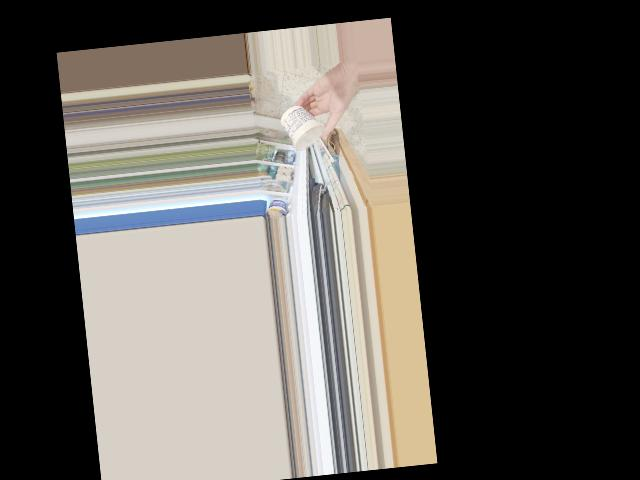cotage: (281, 109, 326, 153)
